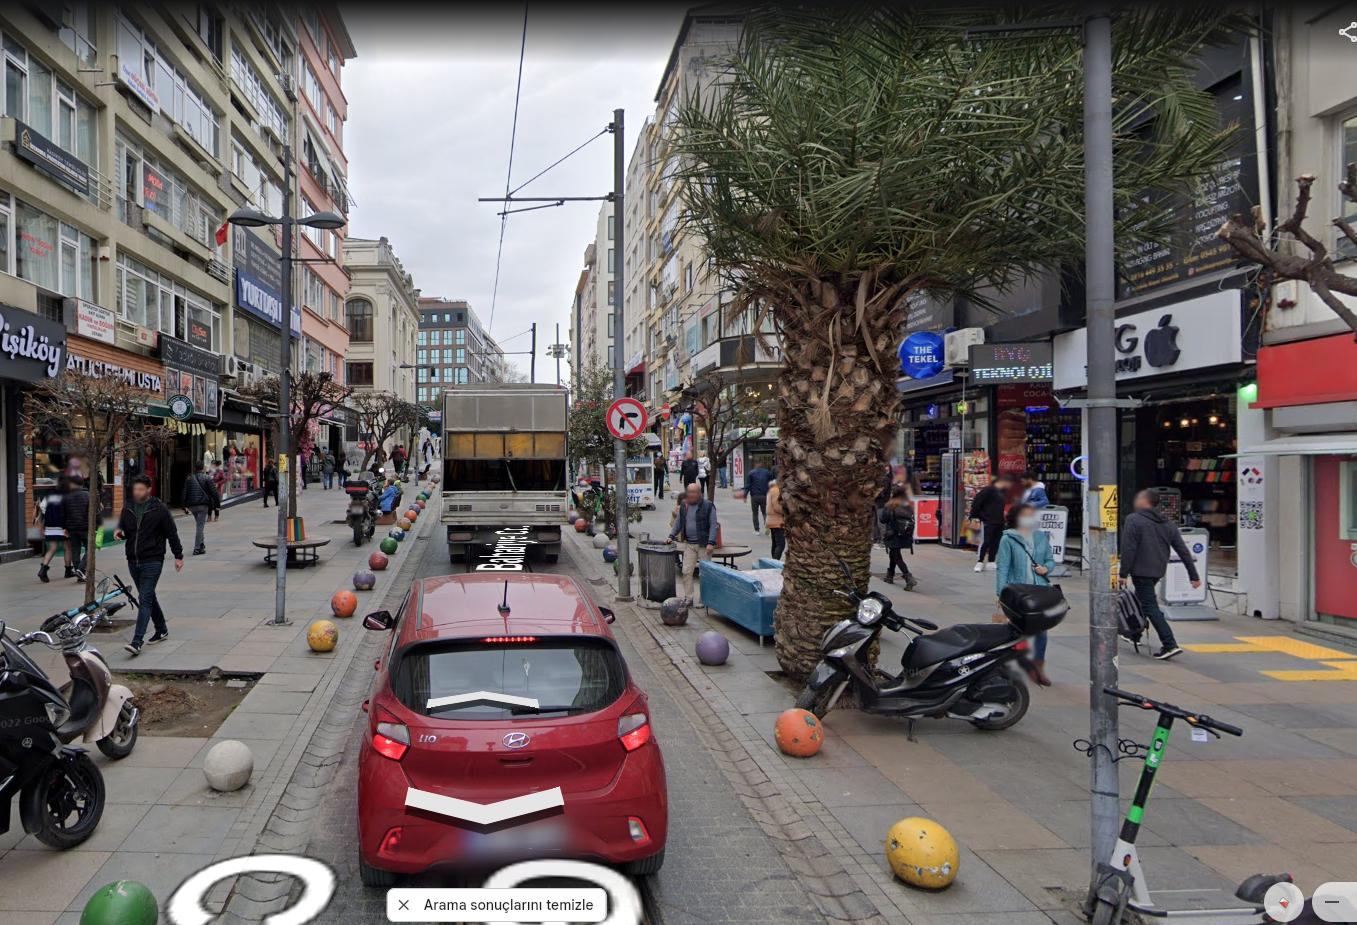rightturnsareforbidden: (606, 399, 648, 440)
